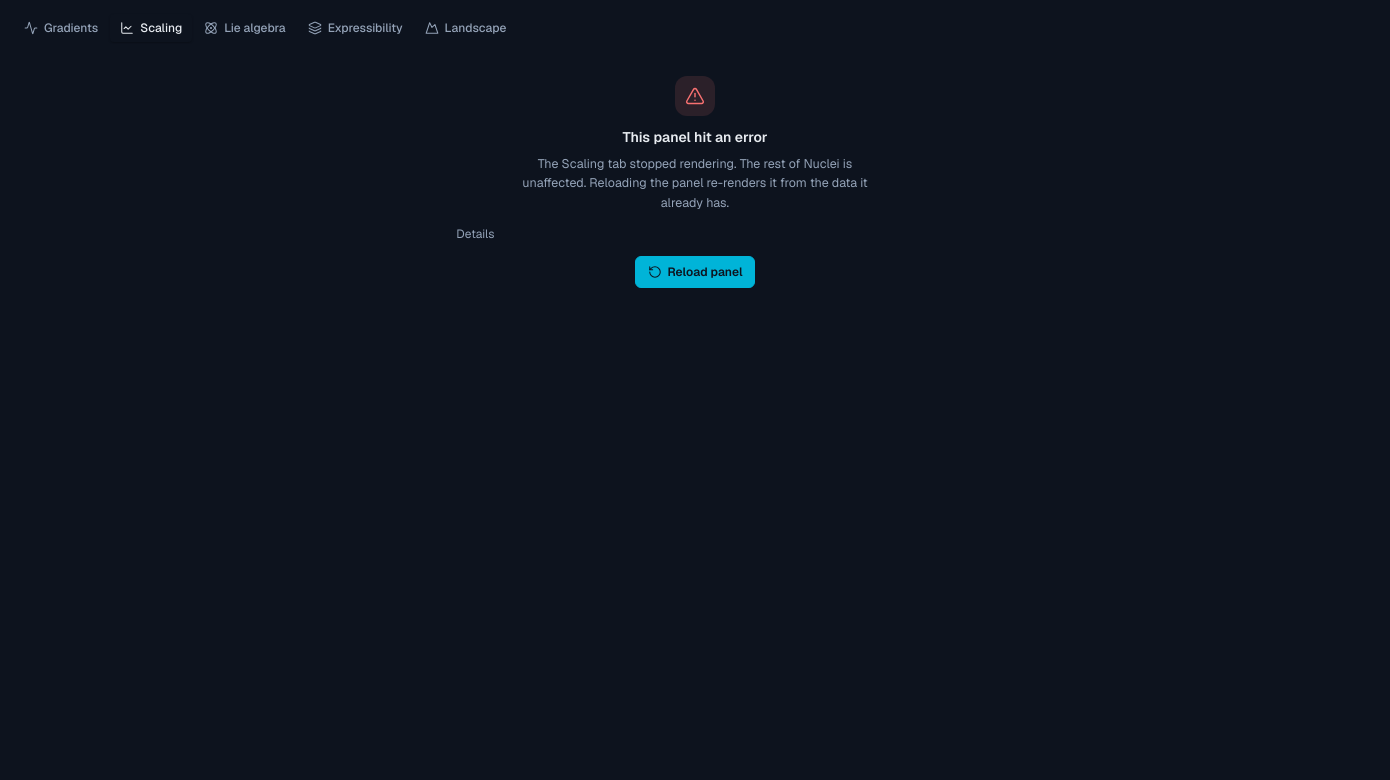
AnalysisTabs error boundary (CR-C2) › contains a crashing tab to a designed in-panel error and recovers on tab change
Check: the text "This panel hit an error" is shown, box [622,128,767,146]
Check: the button "Reload panel" is shown, box [634,256,756,288]
// The tab bar is still there and another tab still renders.
Click the tab "Lie algebra": click(245, 28) [194,14,296,42]
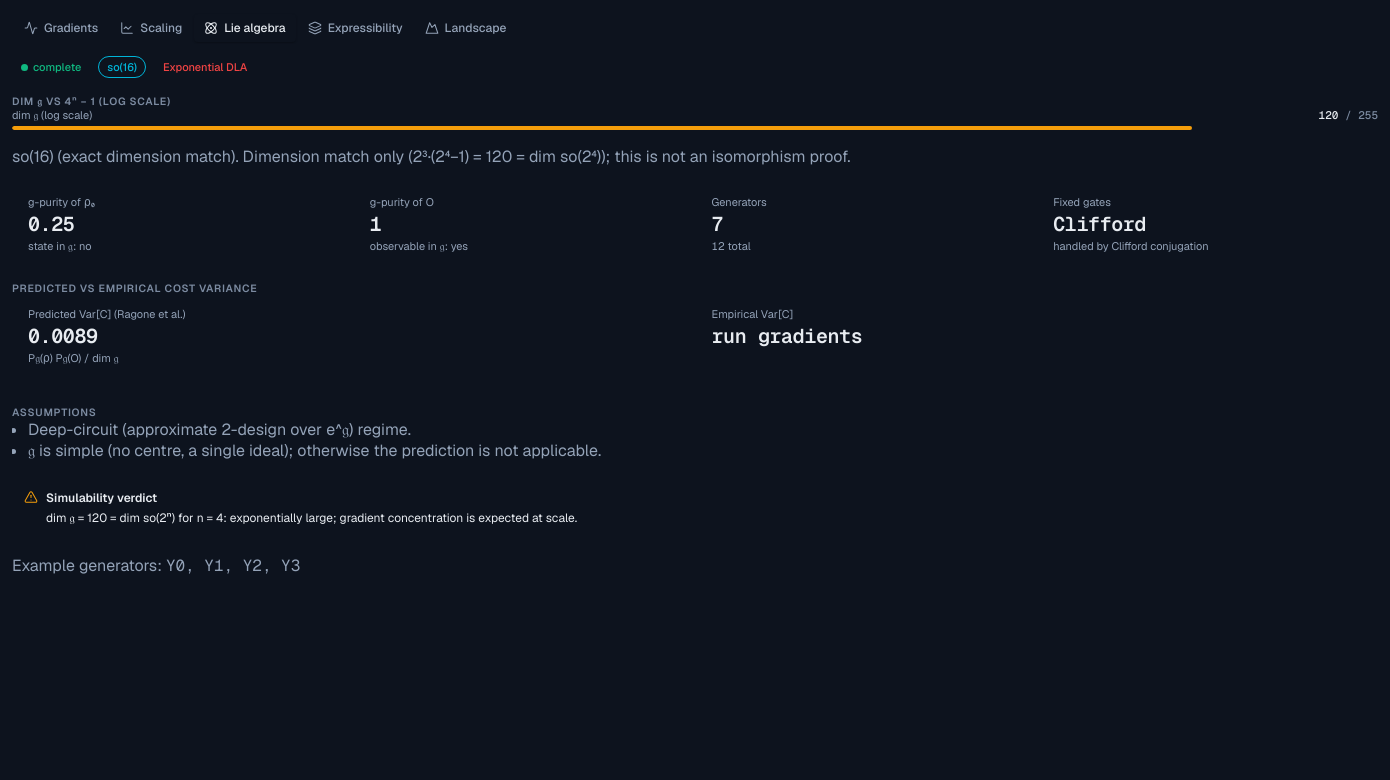
Check: the text "This panel hit an error" is gone
Check: the text "Simulability verdict" is shown, box [46,490,157,506]
